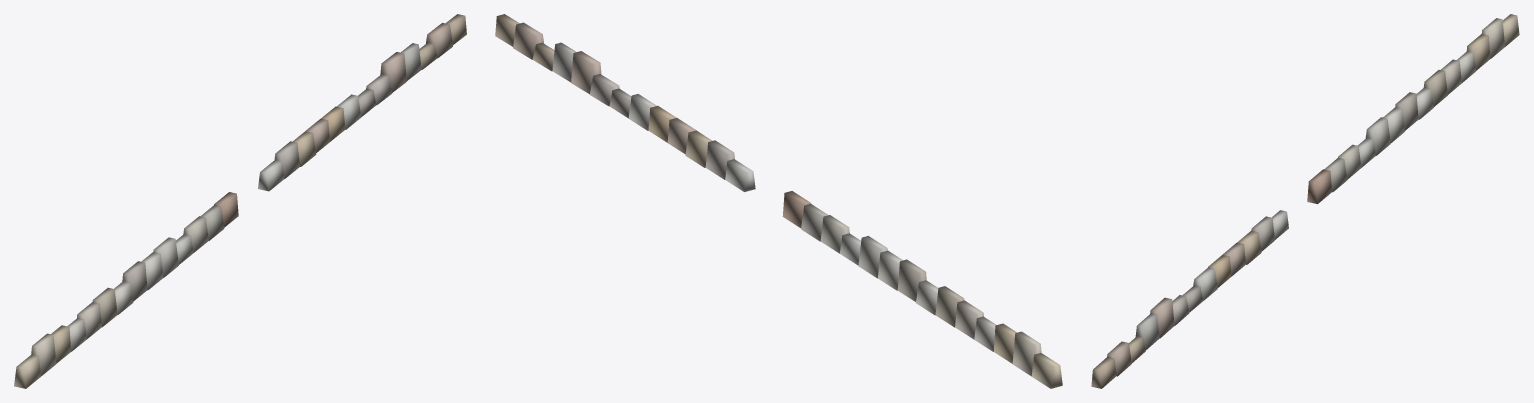
File: farm_25_15_collision.glb
3 views of the same model, side by side, from view 1: azimuth 90°, elevation 25°; view 2: azimuth 150°, elevation 25°; view 3: azimuth 270°, elevation 25° (orthographic). The views are drawn at different scales.
Parts seen in each view (by area): view 1: geometry_0; view 2: geometry_0; view 3: geometry_0.
Boxes of the visible parts, bbox=[...] form: geometry_0: bbox=[14, 14, 466, 388]; geometry_0: bbox=[495, 14, 1062, 388]; geometry_0: bbox=[1091, 14, 1519, 388].
Bounding box in the file's own units: 40.39 × 1.98 × 21.07.
